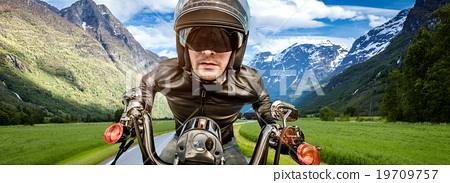helmet: (170, 2, 260, 66)
